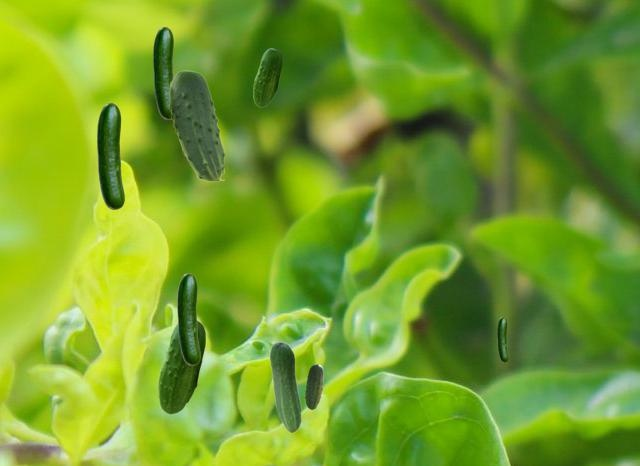cucumber: (169, 70, 223, 179), (158, 320, 204, 413), (269, 341, 301, 432), (97, 103, 123, 208), (177, 273, 199, 364), (153, 27, 174, 118), (253, 48, 281, 106), (305, 364, 322, 408), (497, 317, 507, 361)
